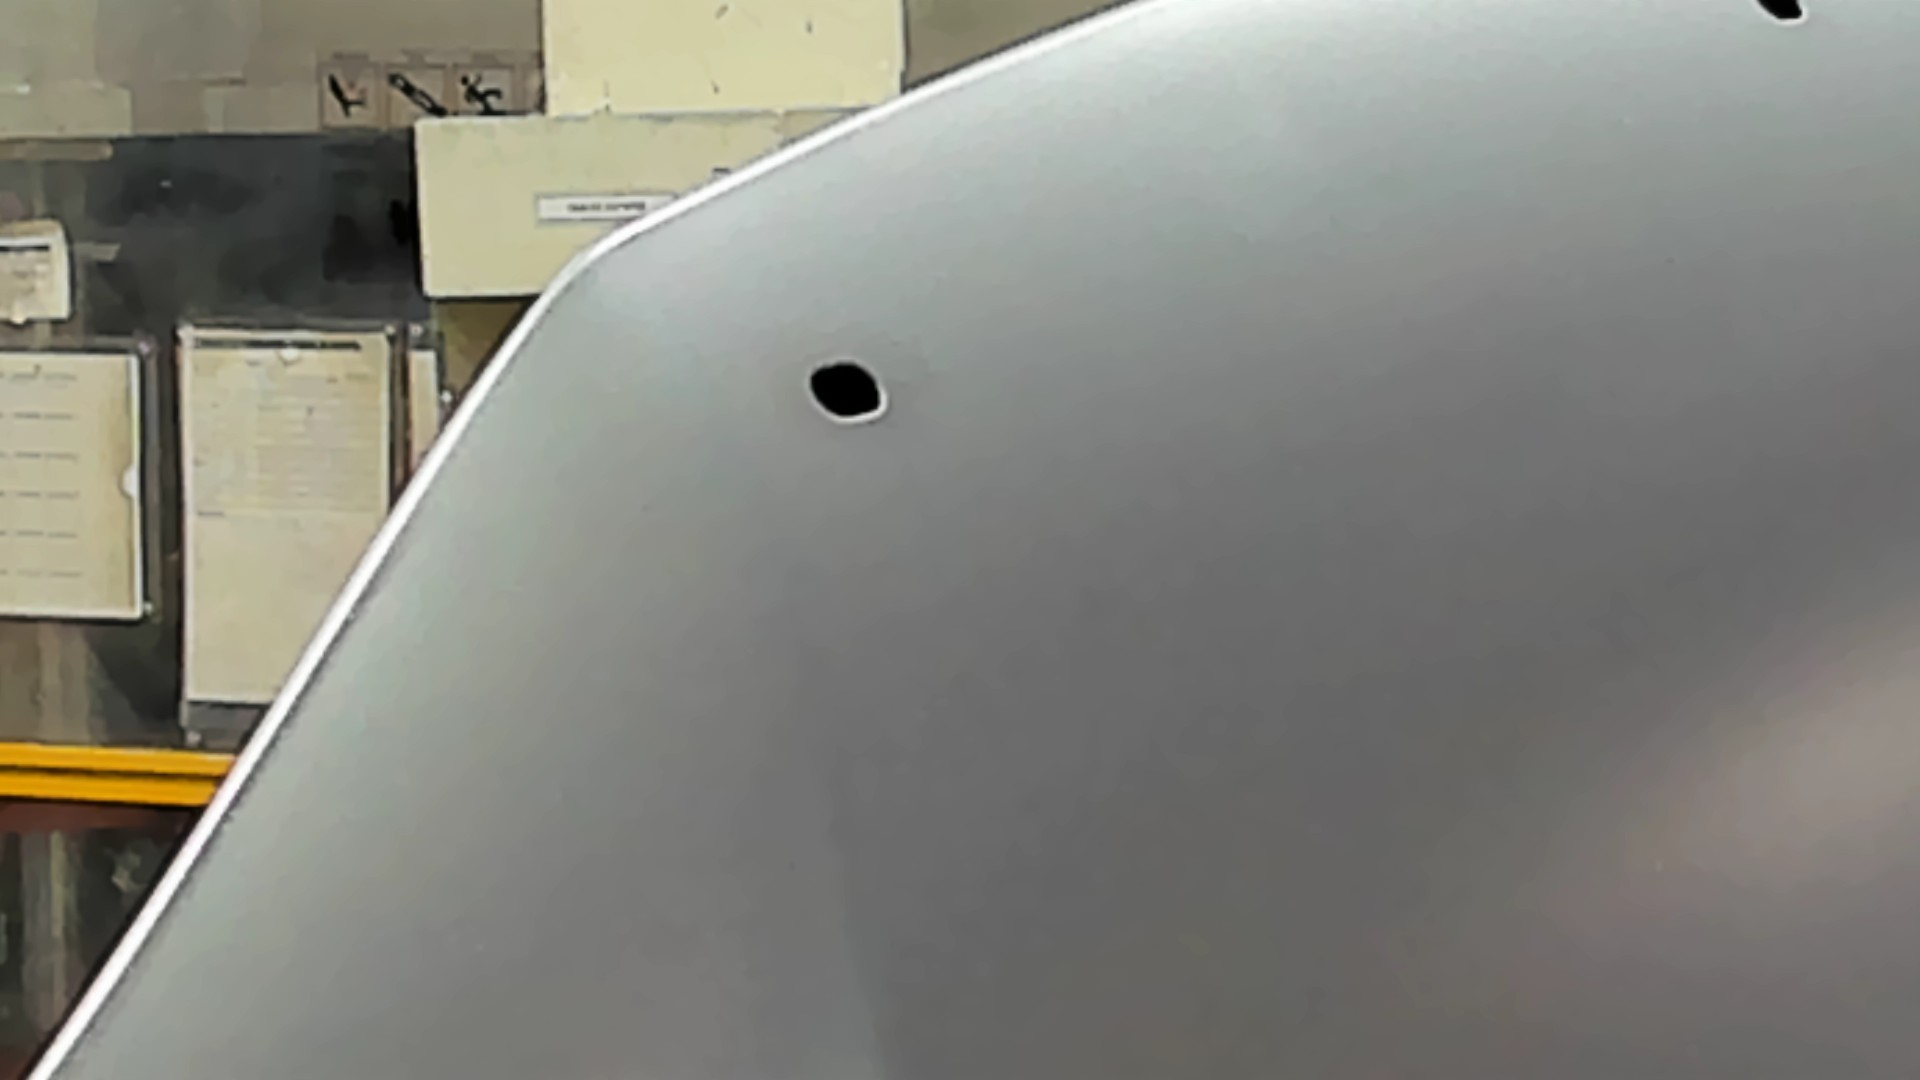amorfo: (802, 353, 893, 429), (1751, 1, 1815, 26)
